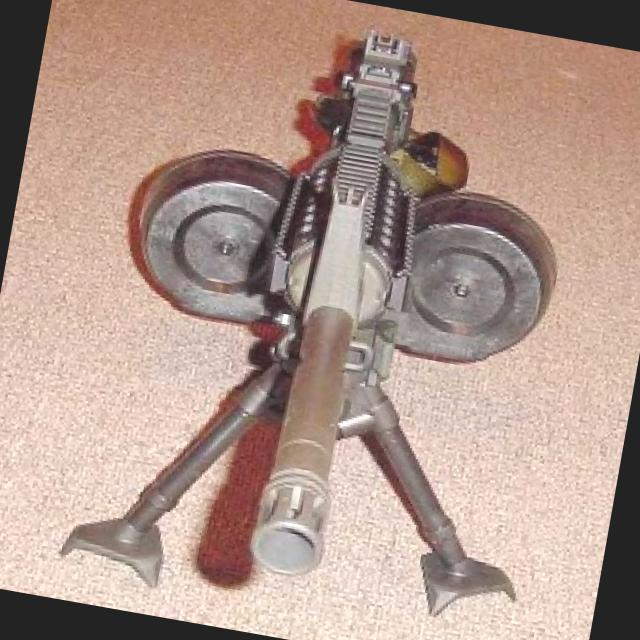long weapon: (56, 0, 620, 607)
